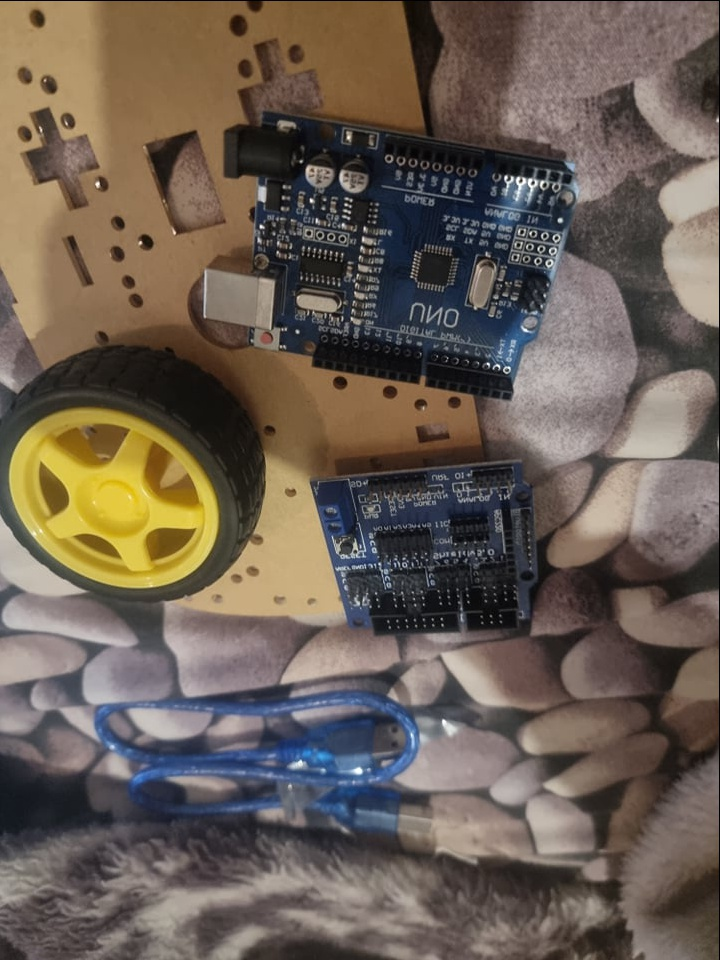5V EXPANSION: (307, 453, 541, 638)
UNO R3: (190, 110, 581, 403)
